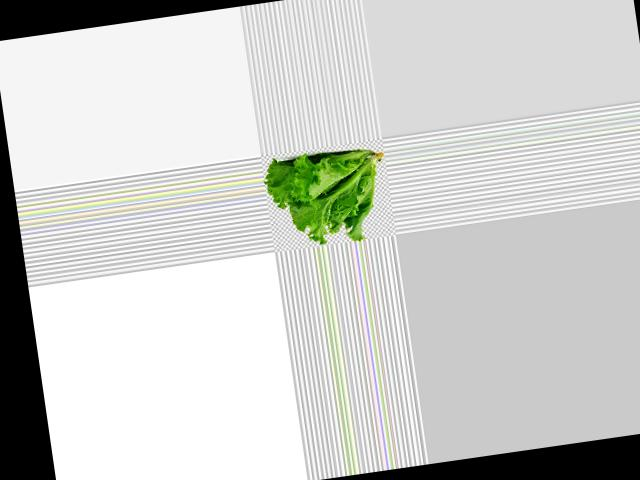lettuce: (263, 146, 395, 252)
